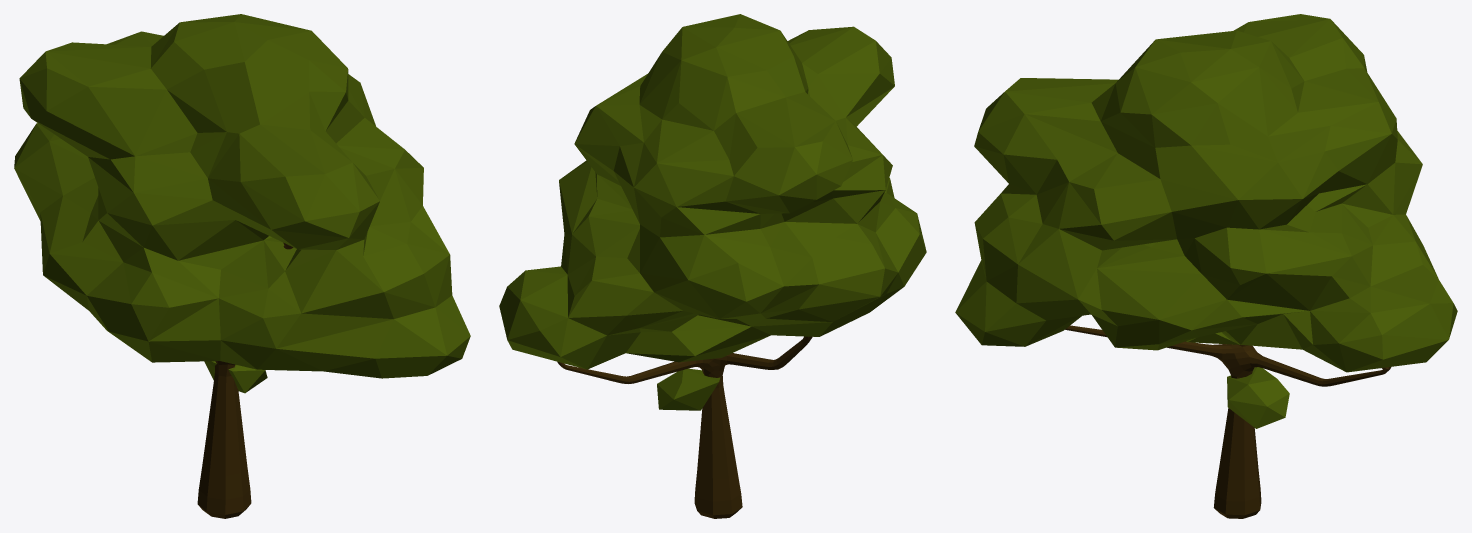
Rendered from Tree_varient_2_v003.fbx.
3 views of the same model, side by side, from view 1: azimuth 30°, elevation 25°; view 2: azimuth 150°, elevation 25°; view 3: azimuth 270°, elevation 25° (orthographic). The views are drawn at different scales.
Visible parts, largest first — view 1: Tree; view 2: Tree; view 3: Tree.
Boxes of the visible parts, bbox=[...] form: Tree: bbox=[14, 14, 470, 518]; Tree: bbox=[499, 14, 926, 518]; Tree: bbox=[955, 14, 1457, 518].
Bounding box in the file's own units: 467 × 658 × 641.
